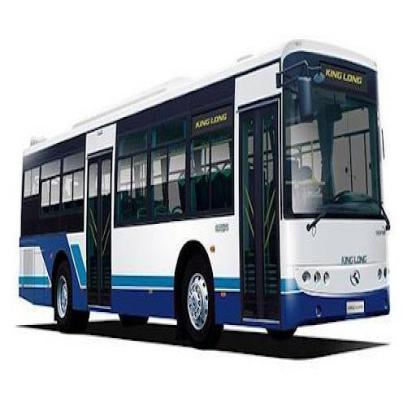Bus: (18, 46, 399, 367)
